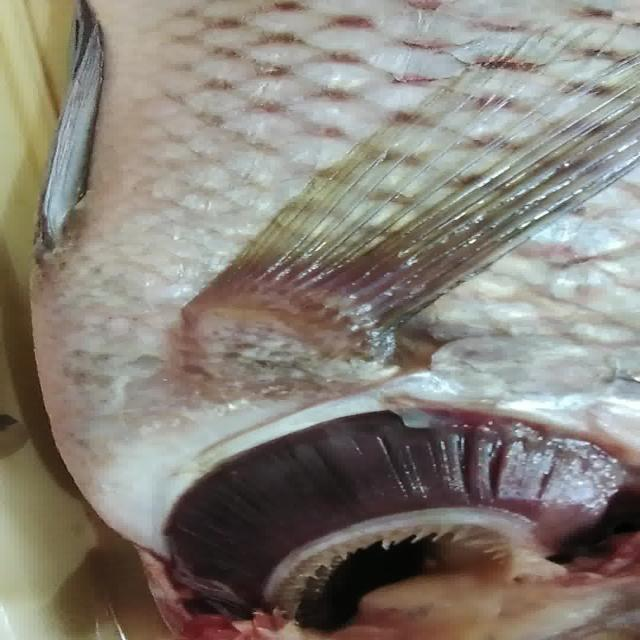Non-Fresh: (154, 415, 610, 611)
